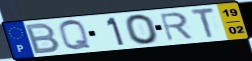1: (105, 16, 126, 47)
B: (25, 21, 62, 55)
O: (124, 13, 161, 46)
Q: (57, 18, 94, 52)
R: (158, 11, 196, 43)
T: (190, 6, 217, 40)
